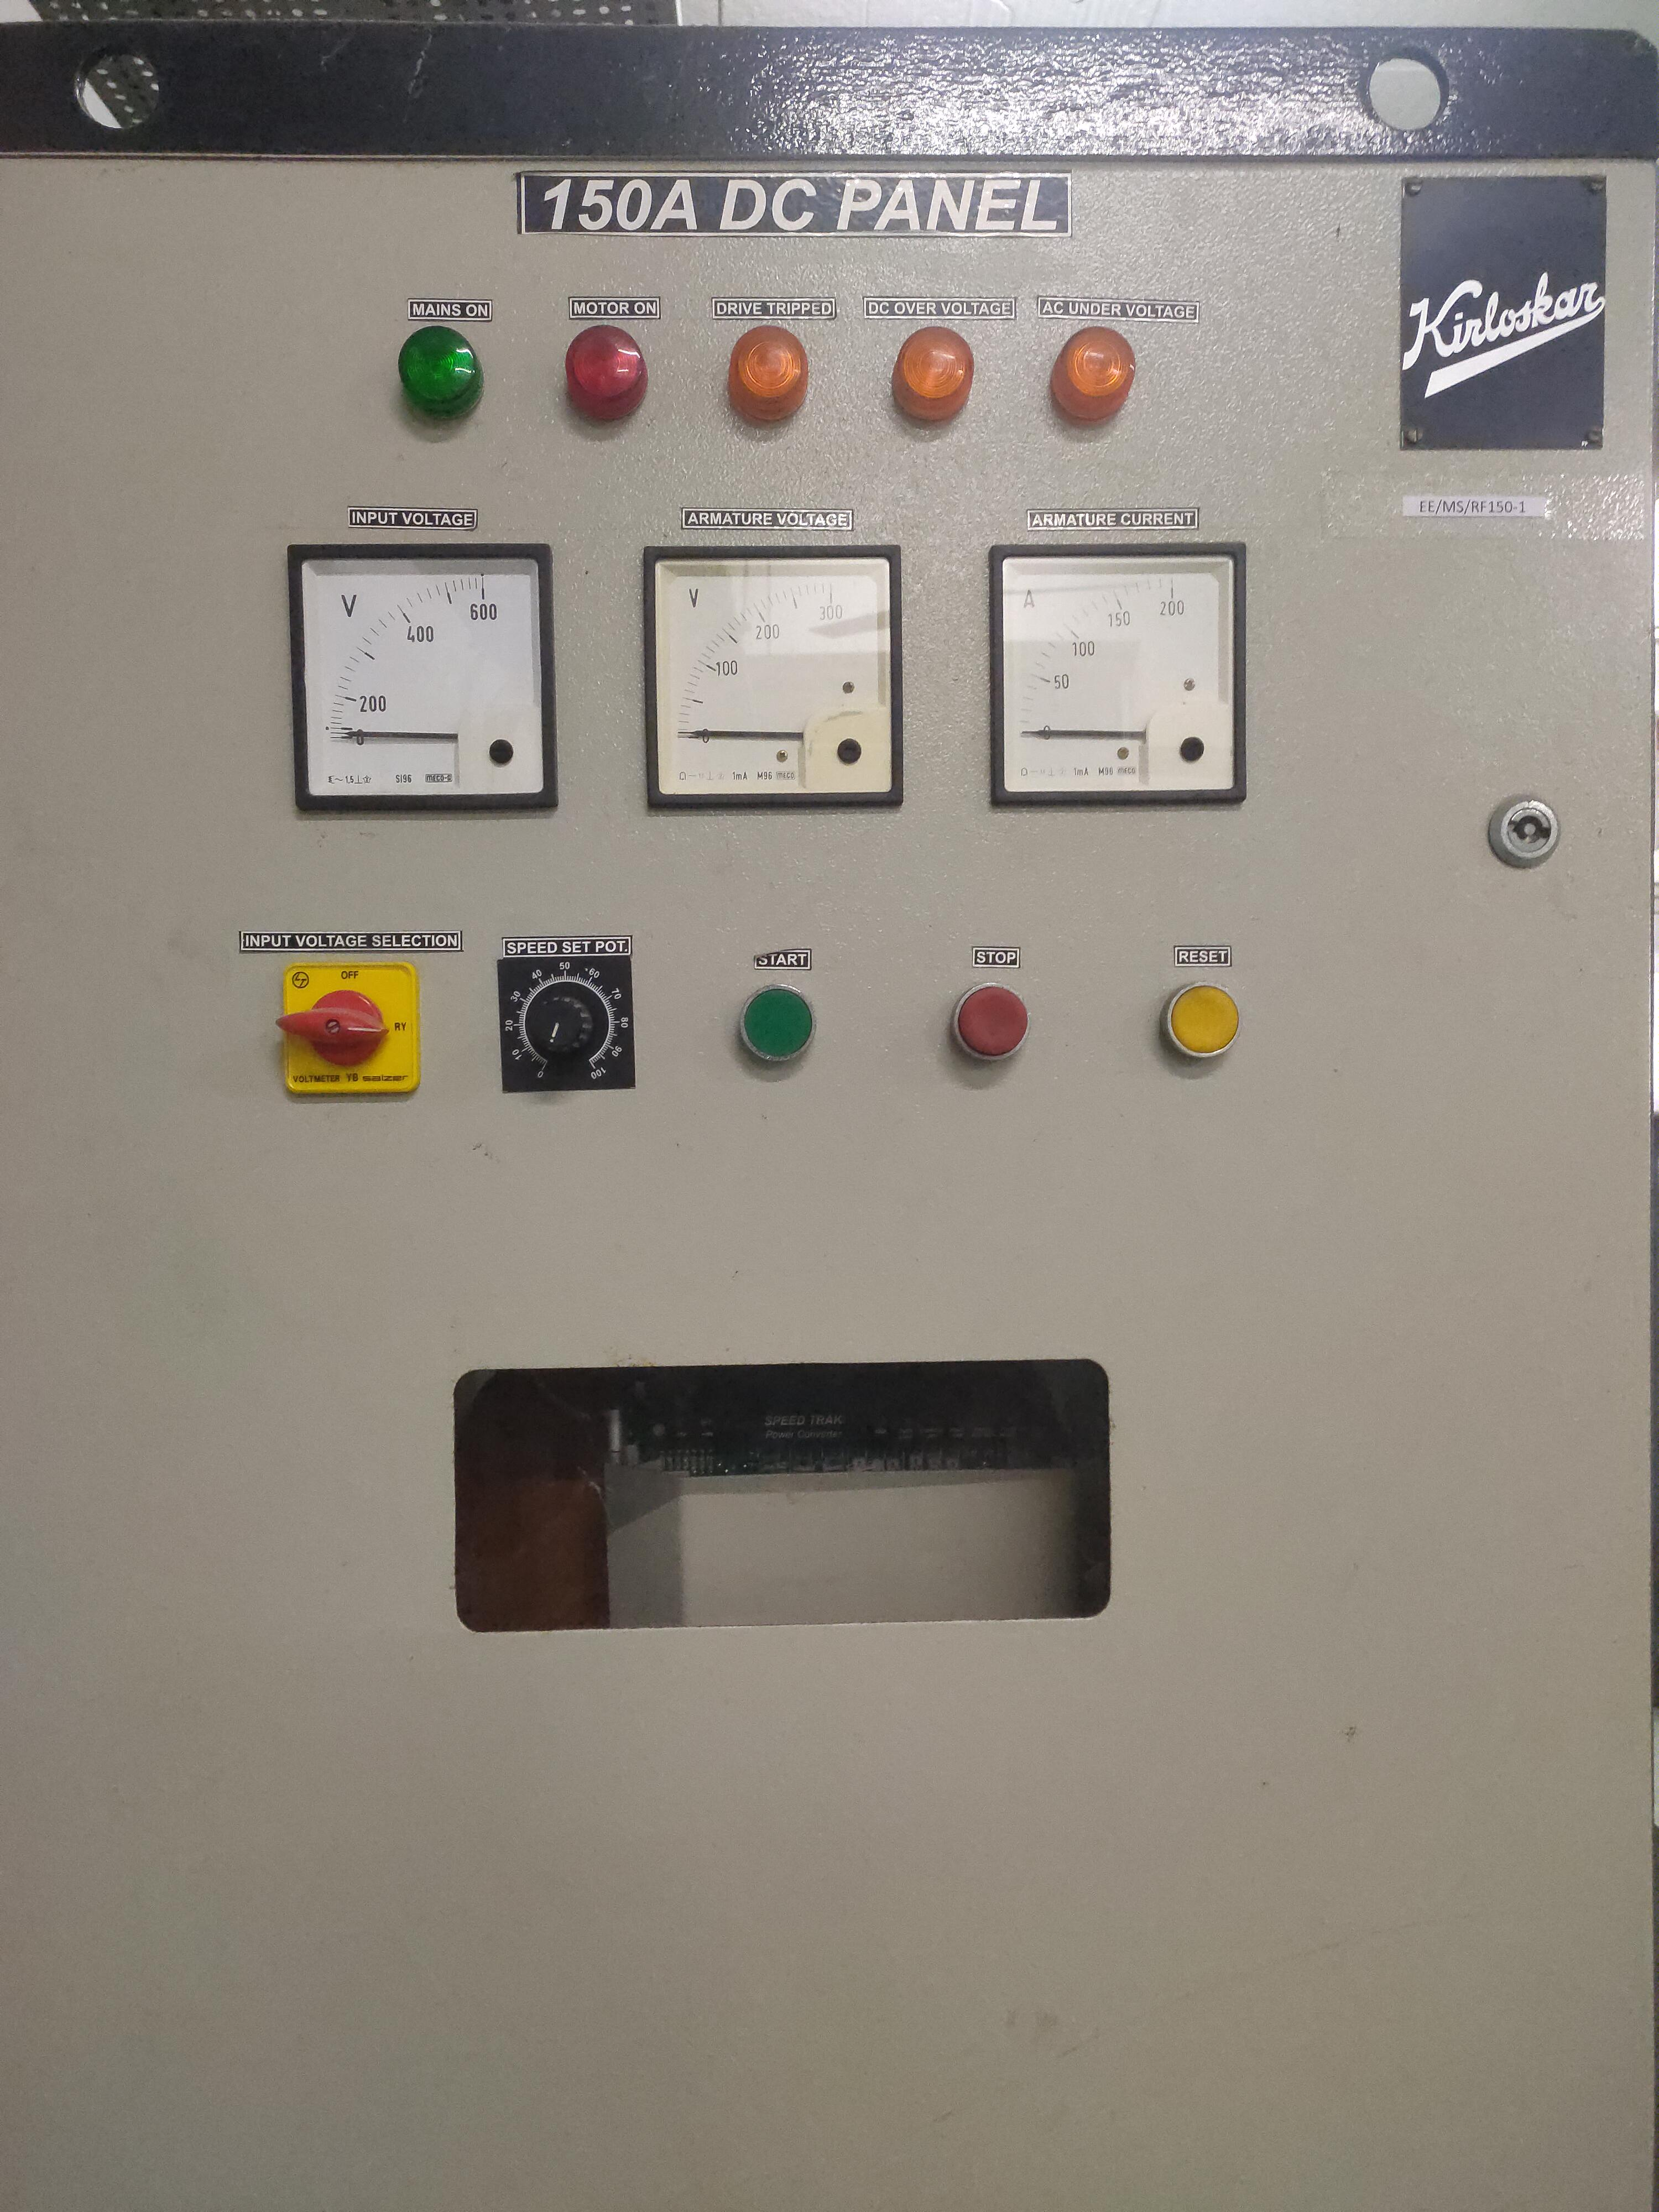Light Indications: (314, 268, 1143, 467)
